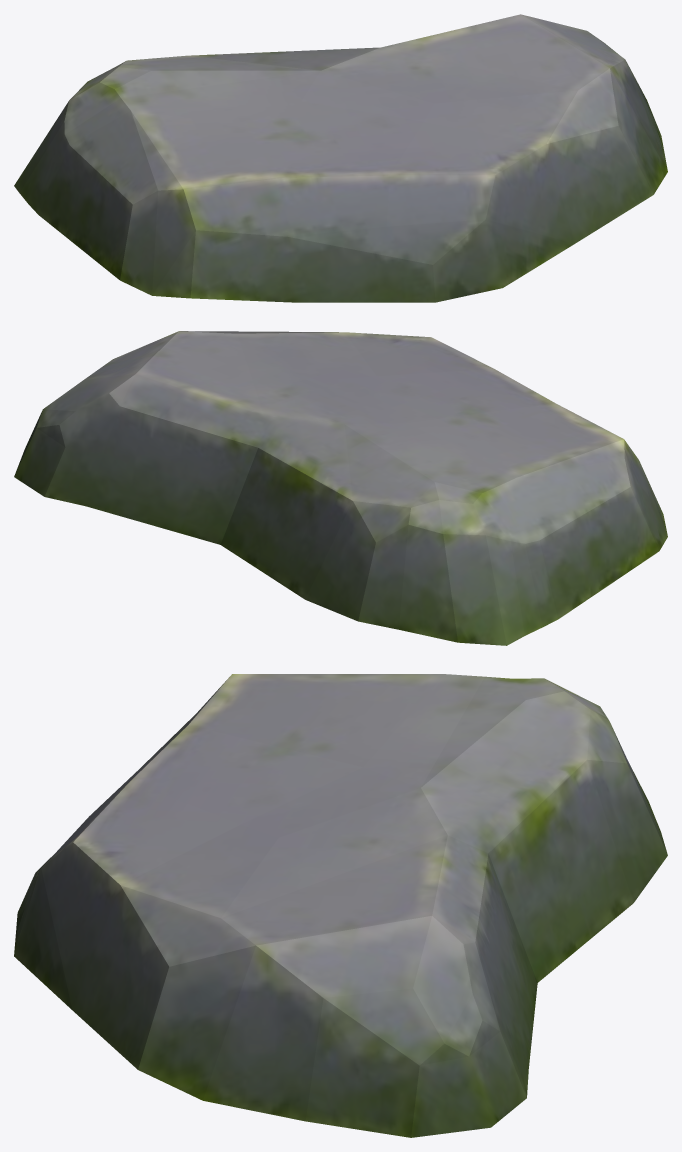
The model's file is Pebble_Round_1.gltf.
The picture shows the model from 3 angles, top to bottom: view 1: azimuth 30°, elevation 25°; view 2: azimuth 150°, elevation 25°; view 3: azimuth 270°, elevation 25°; orthographic projection. The views are drawn at different scales.
Parts seen in each view (by area): view 1: Pebble_Round_1; view 2: Pebble_Round_1; view 3: Pebble_Round_1.
Part boxes in pixels (bbox=[...]): Pebble_Round_1: bbox=[14, 14, 667, 302]; Pebble_Round_1: bbox=[14, 331, 667, 645]; Pebble_Round_1: bbox=[14, 674, 667, 1137].
Size of the model in its own units: 0.5 by 0.0955 by 0.367.
1 material, 1 textured.
